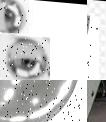ironball: (0, 80, 87, 121), (0, 33, 49, 80), (0, 0, 28, 33), (87, 8, 98, 80), (0, 55, 11, 80)
